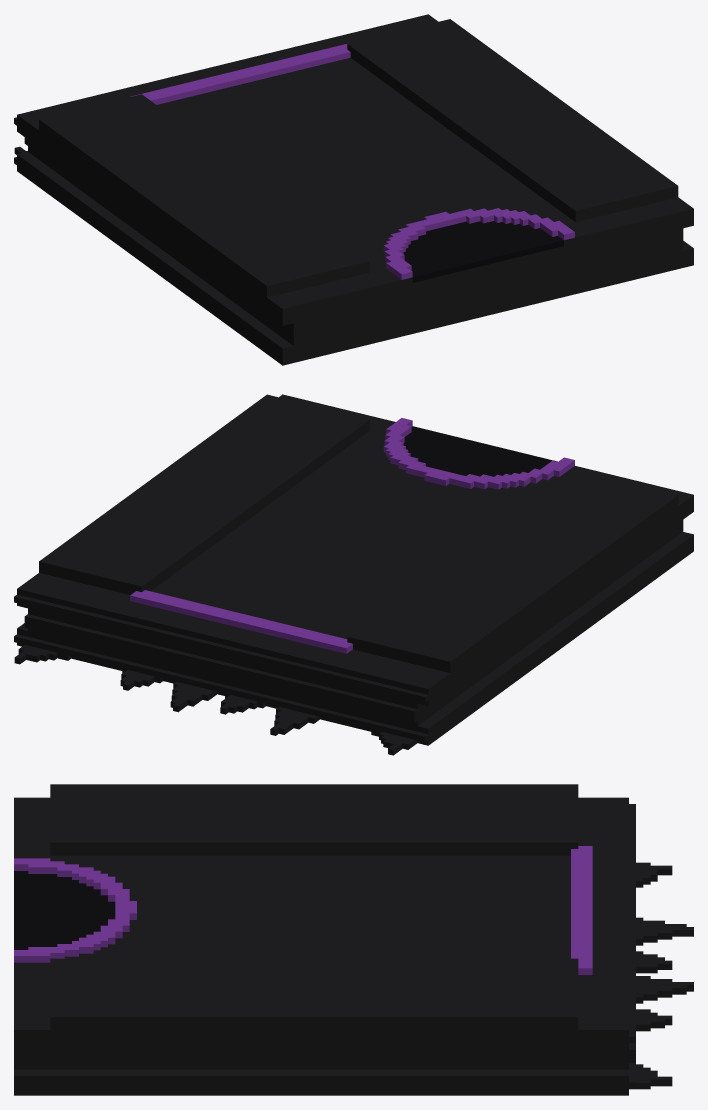
The model's file is witch_dress.glb.
3 views of the same model, one above another, from view 1: azimuth 30°, elevation 25°; view 2: azimuth 150°, elevation 25°; view 3: azimuth 270°, elevation 25° (orthographic). The views are drawn at different scales.
Parts seen in each view (by area): view 1: witch_dress:compound; view 2: witch_dress:compound; view 3: witch_dress:compound.
Part boxes in pixels (x1,y1,x2,y2): witch_dress:compound: (14,14,693,365); witch_dress:compound: (14,394,693,755); witch_dress:compound: (14,784,693,1095).
Bounding box in the file's own units: 0.304 × 0.048 × 0.376.
